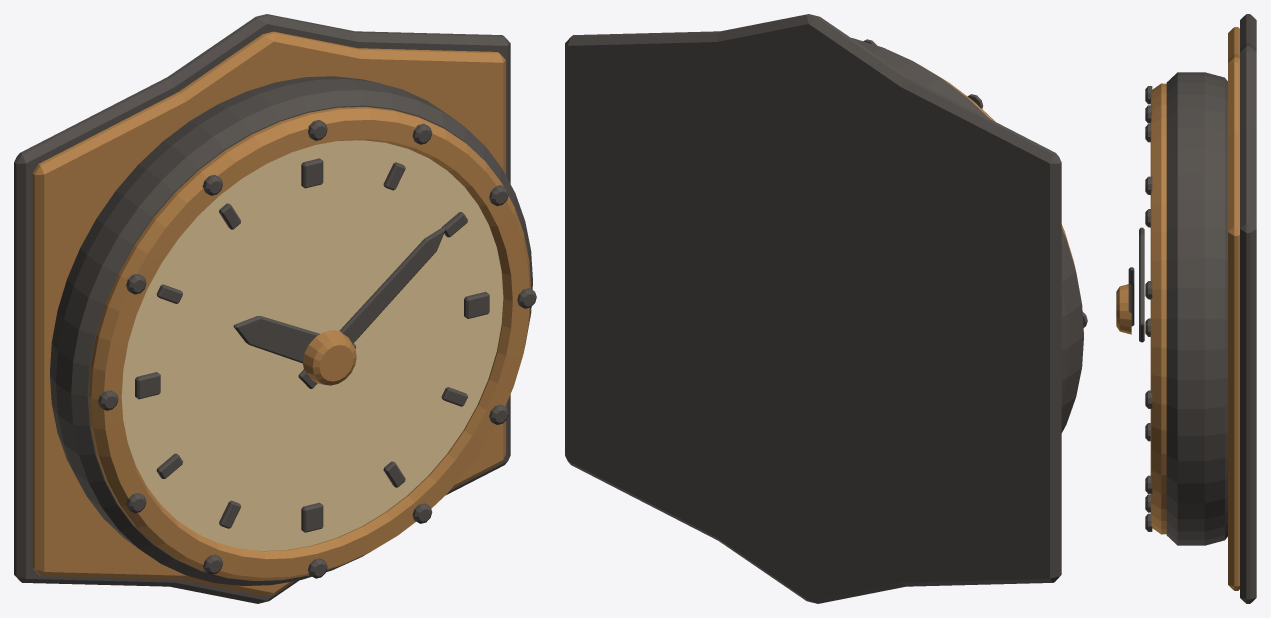
Rendered from wsc-prop-017-clock.glb.
3 renders of one model, left to right at view 1: azimuth 30°, elevation 25°; view 2: azimuth 150°, elevation 25°; view 3: azimuth 270°, elevation 25°, orthographic. The views are drawn at different scales.
Parts seen in each view (by area): view 1: wsc-prop-017-clock; view 2: wsc-prop-017-clock; view 3: wsc-prop-017-clock.
Part boxes in pixels (x1,y1,x2,y2): wsc-prop-017-clock: (14, 14, 536, 603); wsc-prop-017-clock: (565, 14, 1087, 603); wsc-prop-017-clock: (1116, 14, 1256, 603).
Bounding box in the file's own units: 2.26 × 2.56 × 0.624.
